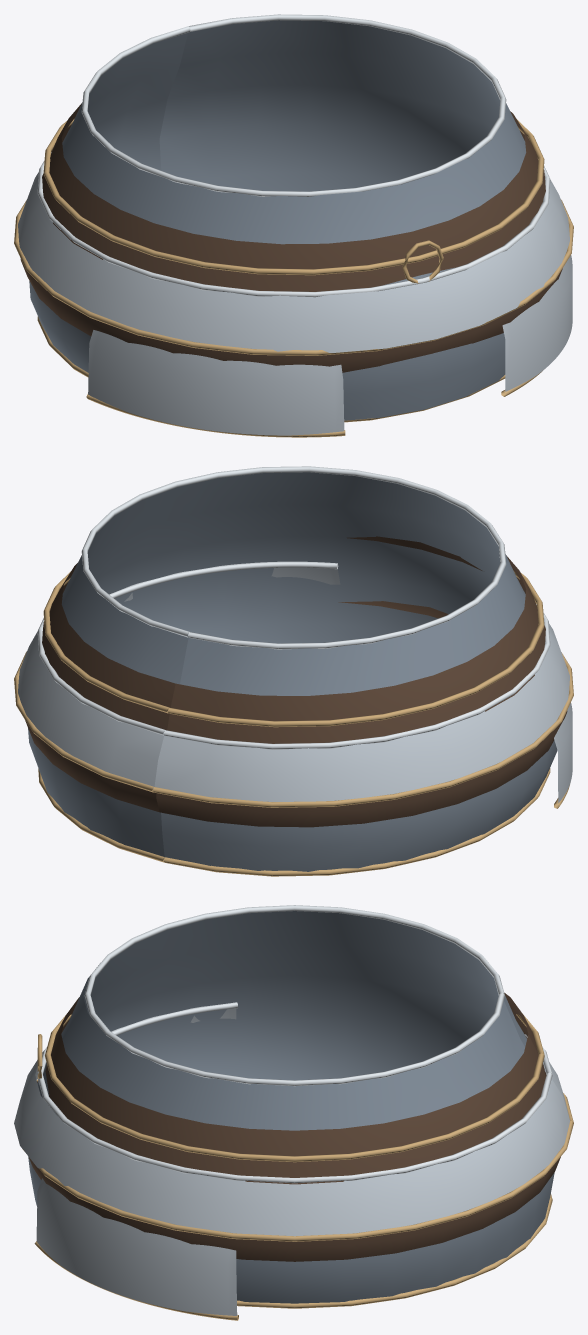
File: waist.glb
3 renders of one model, top to bottom at view 1: azimuth 30°, elevation 25°; view 2: azimuth 150°, elevation 25°; view 3: azimuth 270°, elevation 25°, orthographic.
Visible parts, largest first — view 1: waist_corset, second_waist_lame, hip_lame (×2), leather_belt, lower_leather_belt, waist_corset_bevel, belt_trim, second_waist_lame_bevel, second_waist_lame_gold_rim, hip_lame_gold_rim, waist_corset_gold_rim; view 2: waist_corset, second_waist_lame, leather_belt, lower_leather_belt, waist_corset_bevel, belt_trim, second_waist_lame_gold_rim, second_waist_lame_bevel, waist_corset_gold_rim, hip_lame (×2), hip_lame_bevel; view 3: waist_corset, second_waist_lame, leather_belt, hip_lame, lower_leather_belt, waist_corset_bevel, belt_trim, second_waist_lame_bevel, second_waist_lame_gold_rim, waist_corset_gold_rim, hip_lame_bevel.
Part boxes in pixels (x1,y1,x2,y2): waist_corset: [29, 20, 526, 420]; second_waist_lame: [18, 172, 569, 352]; hip_lame (×2): [88, 255, 572, 435]; leather_belt: [42, 103, 545, 291]; lower_leather_belt: [20, 259, 562, 372]; waist_corset_bevel: [81, 14, 506, 196]; belt_trim: [43, 119, 544, 275]; second_waist_lame_bevel: [37, 152, 550, 297]; second_waist_lame_gold_rim: [14, 199, 573, 355]; hip_lame_gold_rim: [86, 394, 345, 437]; waist_corset_gold_rim: [37, 316, 505, 422]; waist_corset: [28, 472, 557, 871]; second_waist_lame: [18, 623, 569, 801]; leather_belt: [42, 536, 545, 743]; lower_leather_belt: [25, 601, 567, 827]; waist_corset_bevel: [81, 466, 506, 649]; belt_trim: [43, 571, 544, 727]; second_waist_lame_gold_rim: [14, 651, 573, 807]; second_waist_lame_bevel: [37, 604, 550, 749]; waist_corset_gold_rim: [38, 768, 550, 876]; hip_lame (×2): [124, 567, 572, 805]; hip_lame_bevel: [109, 561, 338, 598]; waist_corset: [28, 911, 554, 1303]; second_waist_lame: [14, 1052, 569, 1236]; leather_belt: [45, 992, 545, 1184]; hip_lame: [36, 1178, 237, 1315]; lower_leather_belt: [29, 1072, 560, 1261]; waist_corset_bevel: [84, 905, 504, 1086]; belt_trim: [45, 1014, 544, 1162]; second_waist_lame_bevel: [37, 1034, 552, 1183]; second_waist_lame_gold_rim: [22, 1079, 573, 1241]; waist_corset_gold_rim: [237, 1194, 552, 1308]; hip_lame_bevel: [111, 1002, 237, 1035].
Bounding box in the file's own units: 2.08 × 0.8928 × 2.11.
